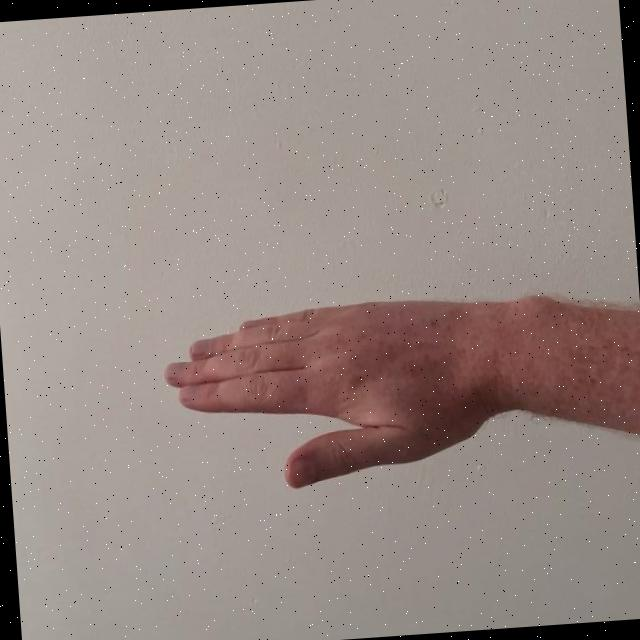papper: (158, 286, 547, 500)
